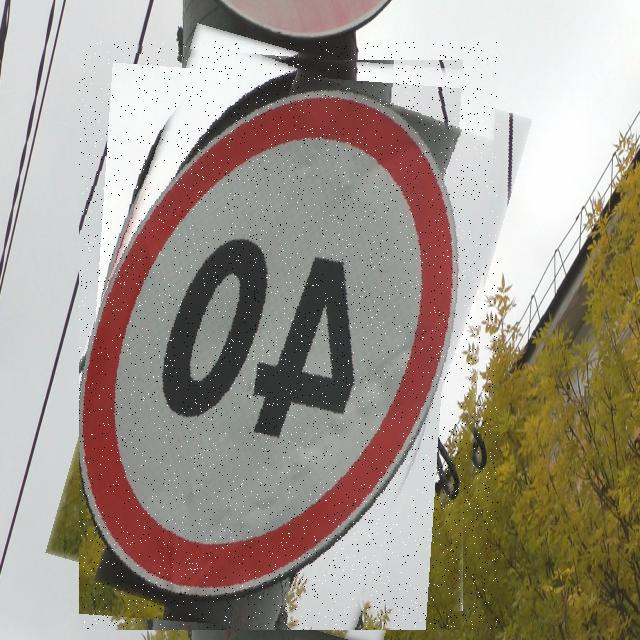speed limit 40: (79, 41, 498, 630)
